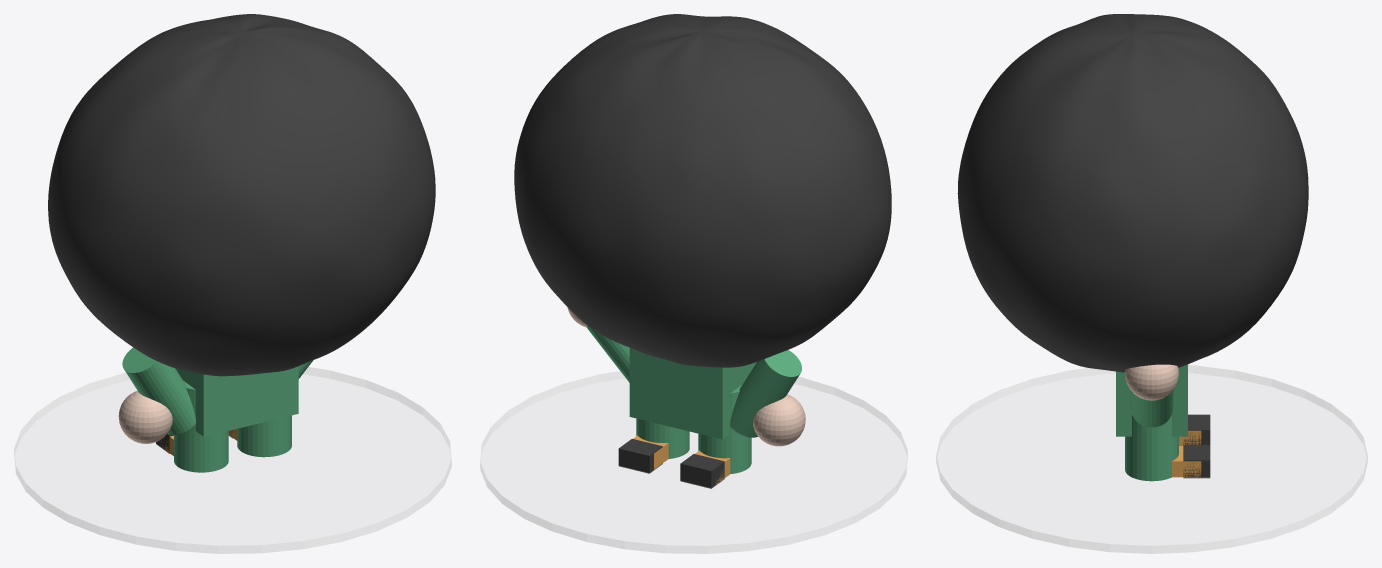
The model's file is funko_pop.glb.
3 views of the same model, side by side, from view 1: azimuth 30°, elevation 25°; view 2: azimuth 150°, elevation 25°; view 3: azimuth 270°, elevation 25° (orthographic). The views are drawn at different scales.
Parts seen in each view (by area): view 1: Sphere, Cylinder.004, Cube.002, Cylinder.003, Cylinder, Sphere.004, Cylinder.001; view 2: Sphere, Cylinder.004, Cube.002, Cylinder.003, Sphere.004, Cylinder, Cylinder.001, Cube.005, Cube.007, Cylinder.002; view 3: Sphere, Cylinder.004, Cylinder.001, Cube.002, Sphere.003, Cylinder.002, Cube.007, Cube.005, Cube.006.
Boxes of the visible parts, left/top/right/bottom form: Sphere: left=48, top=14, right=435, bottom=376; Cylinder.004: left=14, top=367, right=451, bottom=553; Cube.002: left=175, top=366, right=298, bottom=436; Cylinder.003: left=122, top=347, right=195, bottom=434; Cylinder: left=174, top=380, right=228, bottom=472; Sphere.004: left=118, top=391, right=172, bottom=443; Cylinder.001: left=237, top=415, right=291, bottom=457; Sphere: left=514, top=14, right=891, bottom=367; Cylinder.004: left=480, top=371, right=907, bottom=553; Cube.002: left=629, top=348, right=756, bottom=439; Cylinder.003: left=730, top=350, right=801, bottom=437; Sphere.004: left=753, top=394, right=805, bottom=446; Cylinder: left=698, top=384, right=751, bottom=473; Cylinder.001: left=636, top=418, right=689, bottom=458; Cube.005: left=680, top=454, right=724, bottom=488; Cube.007: left=618, top=439, right=662, bottom=473; Cylinder.002: left=586, top=326, right=629, bottom=382; Sphere: left=957, top=14, right=1308, bottom=372; Cylinder.004: left=936, top=365, right=1367, bottom=553; Cylinder.001: left=1125, top=415, right=1178, bottom=481; Cube.002: left=1116, top=364, right=1187, bottom=436; Sphere.003: left=1125, top=364, right=1178, bottom=400; Cylinder.002: left=1130, top=390, right=1173, bottom=427; Cube.007: left=1183, top=445, right=1210, bottom=478; Cube.005: left=1183, top=414, right=1210, bottom=444; Cube.006: left=1172, top=446, right=1201, bottom=477.
Bounding box in the file's own units: 2.4 × 2.63 × 2.4.
